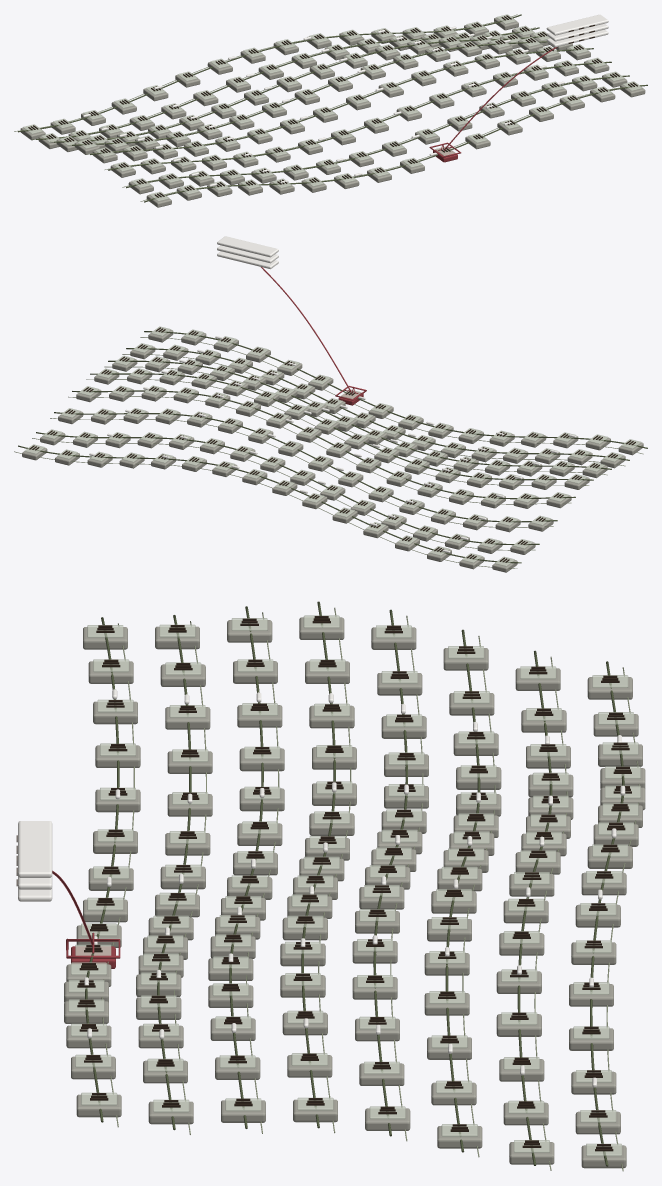
Rendered from edge.glb.
3 views of the same model, one above another, from view 1: azimuth 30°, elevation 25°; view 2: azimuth 150°, elevation 25°; view 3: azimuth 270°, elevation 25° (orthographic). The views are drawn at different scales.
Visible parts, largest first — view 1: DETAIL_Feature_Operators, FLOW_Signal_Filament_07, FLOW_Signal_Filament_03, FLOW_Signal_Filament_02, FLOW_Signal_Filament_00, FLOW_Signal_Filament_01, FLOW_Signal_Filament_04, FLOW_Signal_Filament_05, FLOW_Signal_Filament_06, OUTCOME_Alert_Evidence_2, OUTCOME_Alert_Evidence_0, OUTCOME_Alert_Evidence_1; view 2: DETAIL_Feature_Operators, FLOW_Signal_Filament_01, FLOW_Signal_Filament_07, FLOW_Signal_Filament_03, FLOW_Signal_Filament_00, FLOW_Signal_Filament_02, FLOW_Signal_Filament_06, FLOW_Signal_Filament_05, FLOW_Signal_Filament_04, OUTCOME_Alert_Evidence_2; view 3: DETAIL_Feature_Operators, OUTCOME_Alert_Evidence_2, FLOW_Signal_Filament_05, FLOW_Signal_Filament_06, FLOW_Signal_Filament_03, FLOW_Signal_Filament_02, FLOW_Signal_Filament_04, FLOW_Signal_Filament_07, FLOW_Signal_Filament_01, FLOW_Signal_Filament_00, SCORE_Cell_035, SCORE_Cell_127 (+102 smaller).
Boxes of the visible parts, x1=… form: DETAIL_Feature_Operators: x1=28, y1=15, x2=637, y2=197; FLOW_Signal_Filament_07: x1=18, y1=14, x2=521, y2=132; FLOW_Signal_Filament_03: x1=90, y1=48, x2=593, y2=154; FLOW_Signal_Filament_02: x1=108, y1=61, x2=611, y2=170; FLOW_Signal_Filament_00: x1=144, y1=84, x2=647, y2=202; FLOW_Signal_Filament_01: x1=126, y1=75, x2=629, y2=188; FLOW_Signal_Filament_04: x1=72, y1=41, x2=547, y2=145; FLOW_Signal_Filament_05: x1=54, y1=36, x2=543, y2=142; FLOW_Signal_Filament_06: x1=36, y1=27, x2=539, y2=139; OUTCOME_Alert_Evidence_2: x1=546, y1=14, x2=608, y2=35; OUTCOME_Alert_Evidence_0: x1=546, y1=29, x2=608, y2=47; OUTCOME_Alert_Evidence_1: x1=546, y1=23, x2=608, y2=41; DETAIL_Feature_Operators: x1=29, y1=327, x2=635, y2=562; FLOW_Signal_Filament_01: x1=126, y1=348, x2=629, y2=460; FLOW_Signal_Filament_07: x1=18, y1=445, x2=521, y2=563; FLOW_Signal_Filament_03: x1=90, y1=373, x2=593, y2=480; FLOW_Signal_Filament_00: x1=144, y1=331, x2=647, y2=448; FLOW_Signal_Filament_02: x1=108, y1=360, x2=611, y2=469; FLOW_Signal_Filament_06: x1=36, y1=432, x2=539, y2=545; FLOW_Signal_Filament_05: x1=54, y1=412, x2=557, y2=522; FLOW_Signal_Filament_04: x1=72, y1=390, x2=575, y2=499; OUTCOME_Alert_Evidence_2: x1=217, y1=236, x2=278, y2=257; DETAIL_Feature_Operators: x1=77, y1=616, x2=631, y2=1151; OUTCOME_Alert_Evidence_2: x1=18, y1=821, x2=52, y2=877; FLOW_Signal_Filament_05: x1=445, y1=629, x2=480, y2=1152; FLOW_Signal_Filament_06: x1=517, y1=650, x2=552, y2=1165; FLOW_Signal_Filament_03: x1=301, y1=601, x2=335, y2=1128; FLOW_Signal_Filament_02: x1=229, y1=606, x2=263, y2=1128; FLOW_Signal_Filament_04: x1=373, y1=609, x2=407, y2=1136; FLOW_Signal_Filament_07: x1=590, y1=661, x2=624, y2=1166; FLOW_Signal_Filament_01: x1=157, y1=615, x2=191, y2=1130; FLOW_Signal_Filament_00: x1=85, y1=617, x2=119, y2=1122; SCORE_Cell_035: x1=239, y1=748, x2=284, y2=771; SCORE_Cell_127: x1=581, y1=1145, x2=626, y2=1168.
Size of what is drawn, in the model's own units: 11.61 by 2.71 by 6.28.
